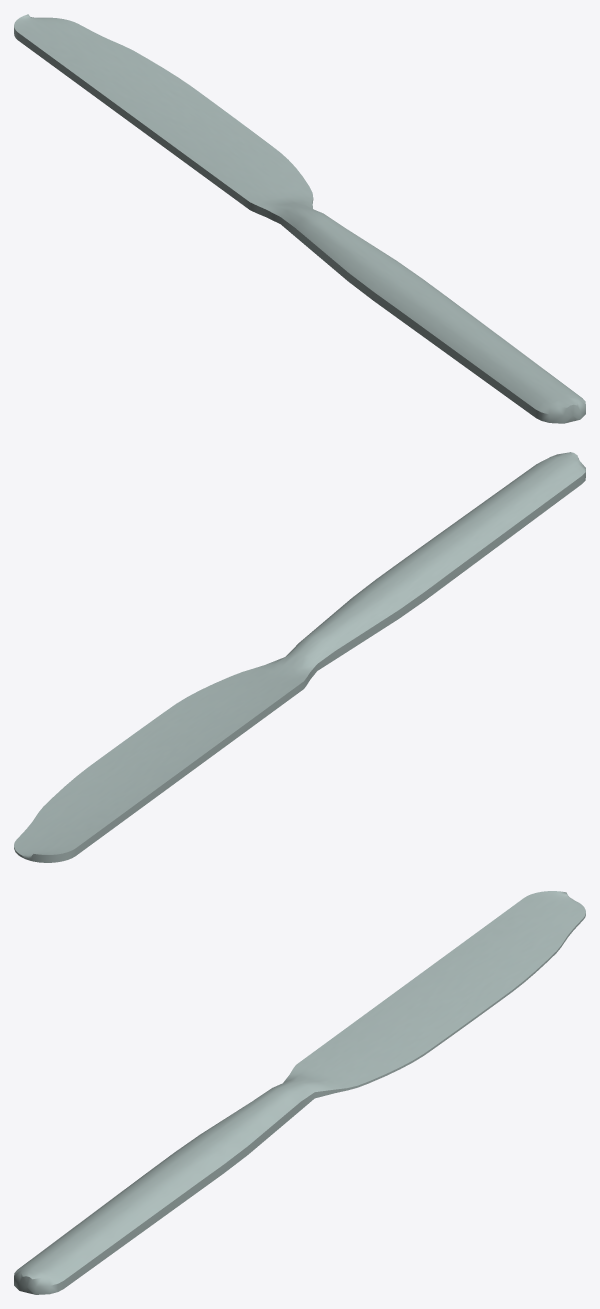
The model's file is 09_Dinner_Knife.fbx.
The picture shows the model from 3 angles, top to bottom: view 1: azimuth 30°, elevation 25°; view 2: azimuth 150°, elevation 25°; view 3: azimuth 330°, elevation 25°; orthographic projection.
Visible parts, largest first — view 1: 09_Dinner_Knife_Mesh.001; view 2: 09_Dinner_Knife_Mesh.001; view 3: 09_Dinner_Knife_Mesh.001.
Boxes of the visible parts, x1,y1,x2,y2 form: 09_Dinner_Knife_Mesh.001: (14,14,585,423); 09_Dinner_Knife_Mesh.001: (14,452,585,862); 09_Dinner_Knife_Mesh.001: (14,891,585,1294).
Size of the model in its own units: 2.03 by 0.4347 by 23.63.
1 material, 1 textured.
